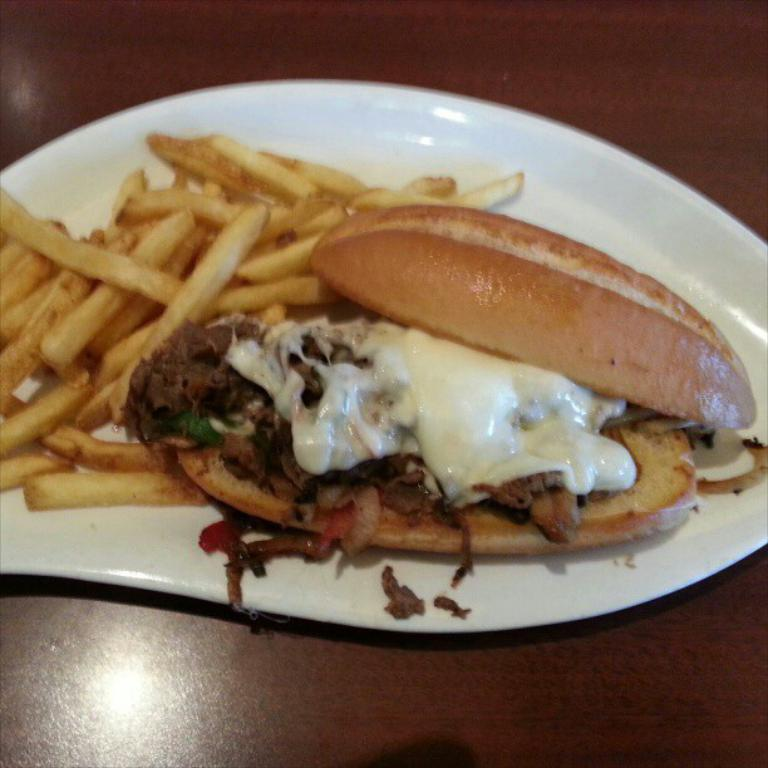French fries: (52, 161, 550, 486)
